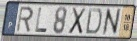8: (52, 6, 68, 36)
D: (84, 7, 103, 36)
L: (34, 7, 48, 34)
N: (101, 8, 121, 38)
R: (15, 5, 34, 33)
X: (67, 7, 87, 36)
